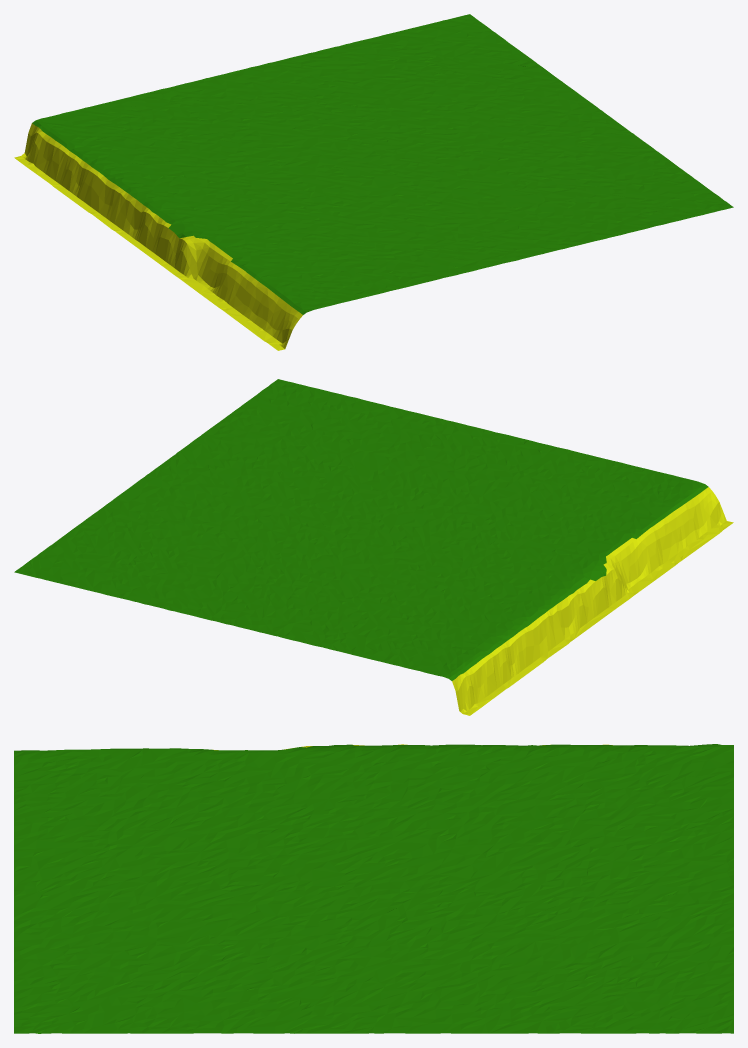
3 views of the same model, one above another, from view 1: azimuth 30°, elevation 25°; view 2: azimuth 150°, elevation 25°; view 3: azimuth 270°, elevation 25° (orthographic). The views are drawn at different scales.
Parts seen in each view (by area): view 1: TerrainVeryHigh.013; view 2: TerrainVeryHigh.013; view 3: TerrainVeryHigh.013.
Part boxes in pixels (left/top/right/bottom): TerrainVeryHigh.013: left=14, top=14, right=733, bottom=350; TerrainVeryHigh.013: left=14, top=379, right=733, bottom=715; TerrainVeryHigh.013: left=14, top=744, right=733, bottom=1033.
Bounding box in the file's own units: 1247 × 1251 × 86.56.
